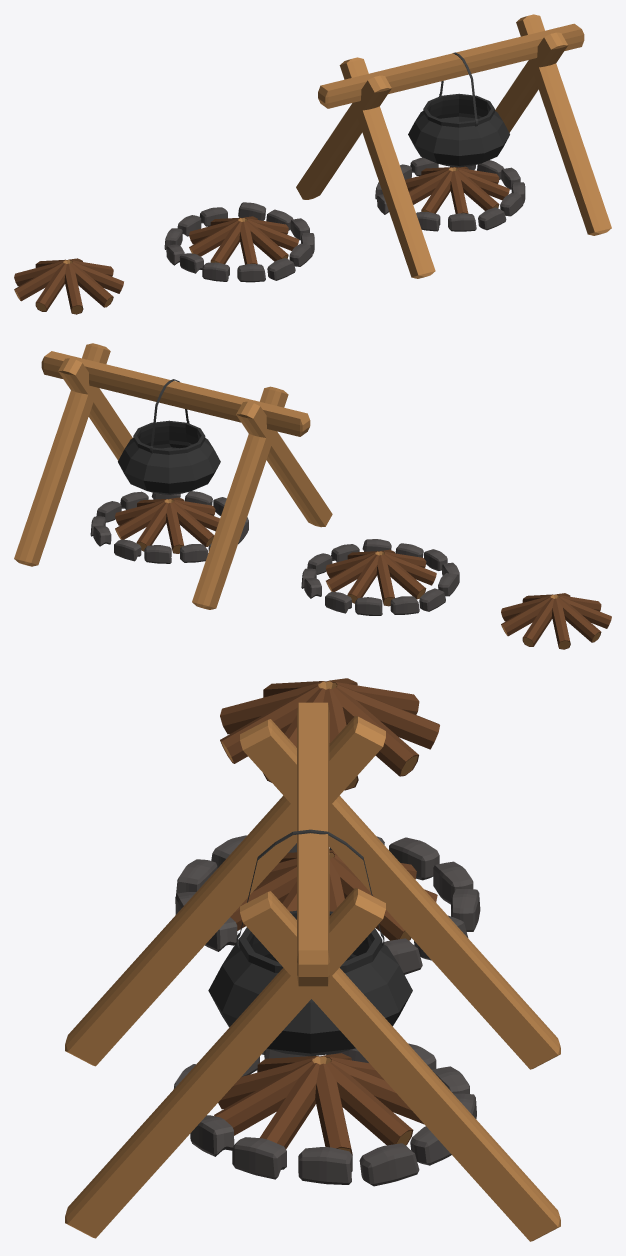
Rendered from CampfireSet.fbx.
3 renders of one model, top to bottom at view 1: azimuth 30°, elevation 25°; view 2: azimuth 150°, elevation 25°; view 3: azimuth 270°, elevation 25°, orthographic. The views are drawn at different scales.
Visible parts, largest first — view 1: Campfire3, Cube.013, Hanging_Pot, Campfire2; view 2: Campfire3, Cube.013, Hanging_Pot, Campfire2; view 3: Campfire3, Hanging_Pot, Cube.013, Campfire2.
Boxes of the visible parts, x1,y1,x2,y2 form: Campfire3: (296,14,611,278); Cube.013: (164,202,314,282); Hanging_Pot: (408,52,509,167); Campfire2: (14,258,123,314); Campfire3: (14,343,332,609); Cube.013: (301,539,459,615); Hanging_Pot: (118,379,220,494); Campfire2: (501,593,611,649); Campfire3: (65,702,560,1241); Hanging_Pot: (208,829,412,1056); Cube.013: (175,835,480,974); Campfire2: (220,678,439,790).
Bounding box in the file's own units: 27.92 × 8.3 × 10.76.
